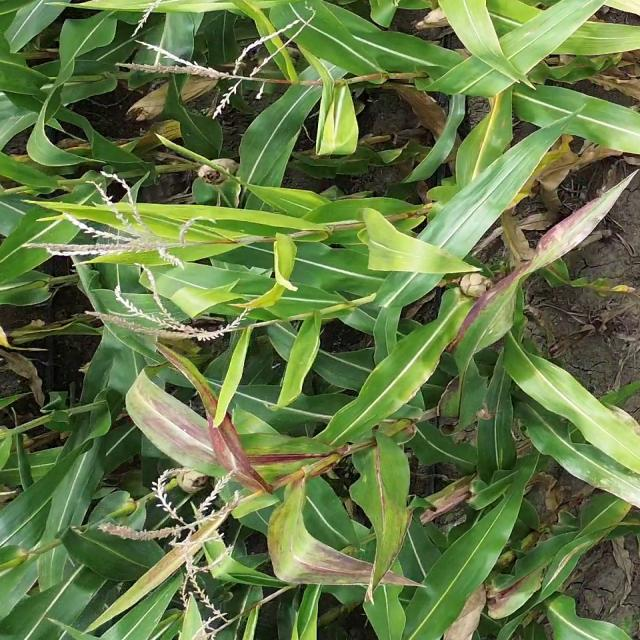gray-leaf-spot: (482, 298, 521, 338)
northern-leaf-blight: (473, 86, 511, 146), (543, 544, 594, 585)
southern-leaf-blight: (571, 453, 640, 492)
